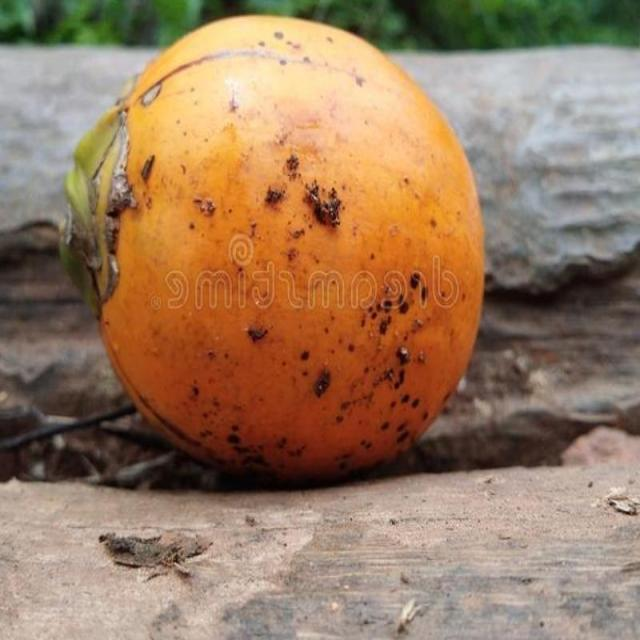good: (59, 15, 487, 490)
